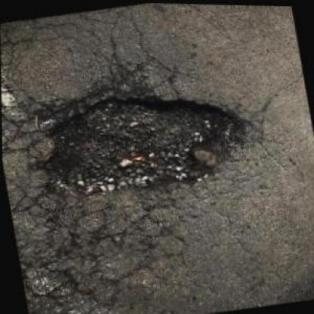Hueco: (30, 62, 258, 214)
